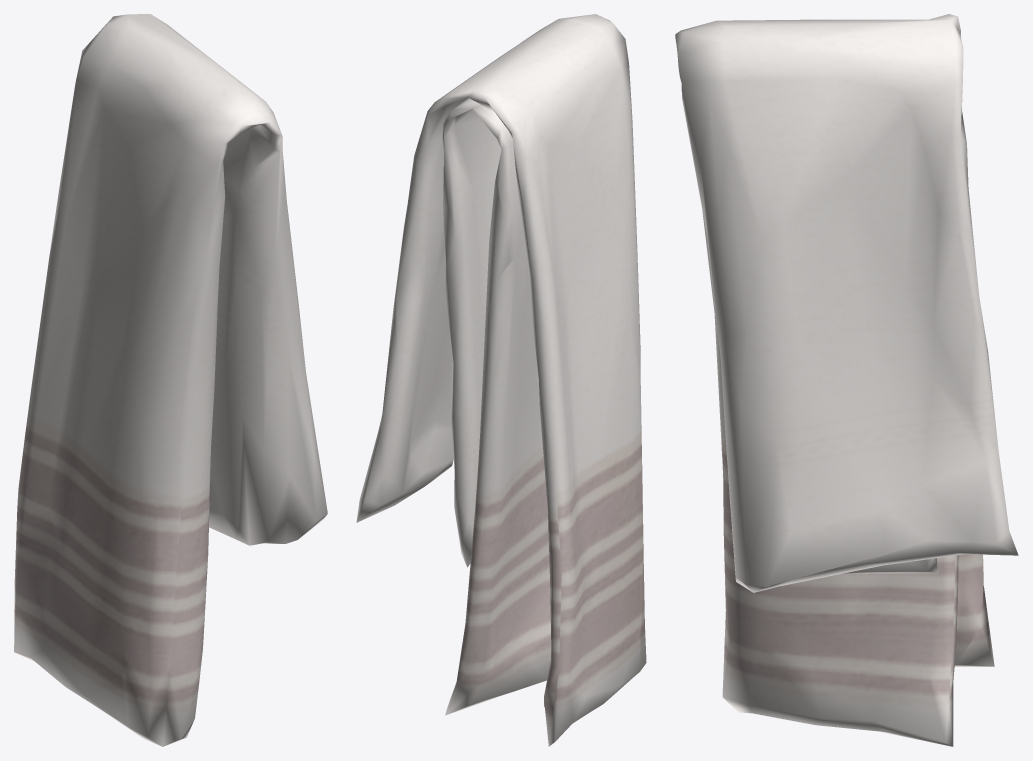
File: SM_Towel_B1.fbx
The picture shows the model from 3 angles, left to right: view 1: azimuth 30°, elevation 25°; view 2: azimuth 150°, elevation 25°; view 3: azimuth 270°, elevation 25°; orthographic projection. The views are drawn at different scales.
Parts seen in each view (by area): view 1: SM_Towel_B1; view 2: SM_Towel_B1; view 3: SM_Towel_B1.
Part boxes in pixels (left/top/right/bottom): SM_Towel_B1: left=14, top=14, right=327, bottom=746; SM_Towel_B1: left=356, top=14, right=646, bottom=746; SM_Towel_B1: left=675, top=14, right=1018, bottom=746.
Size of the model in its own units: 20.08 by 24.86 by 56.9.
1 material, 1 textured.
